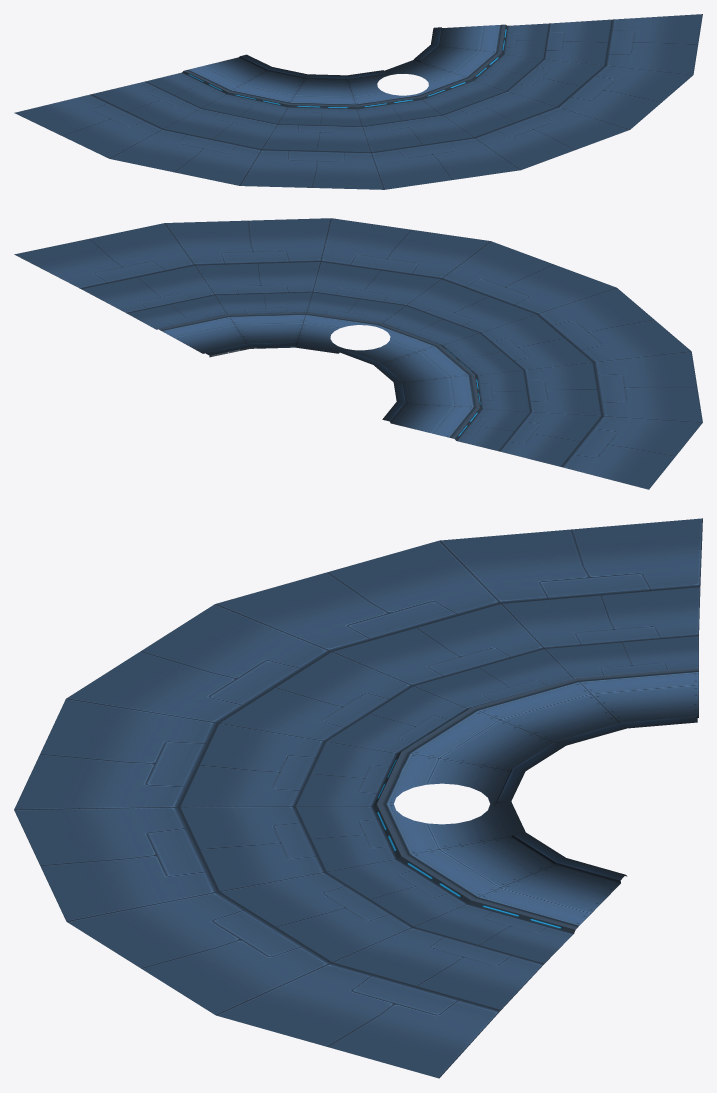
The model's file is ts_zjmdm001.FBX.
The picture shows the model from 3 angles, top to bottom: view 1: azimuth 30°, elevation 25°; view 2: azimuth 150°, elevation 25°; view 3: azimuth 270°, elevation 25°; orthographic projection. The views are drawn at different scales.
Visible parts, largest first — view 1: ts_zjmdm001; view 2: ts_zjmdm001; view 3: ts_zjmdm001.
Boxes of the visible parts, <box> form: ts_zjmdm001: <box>14,14,702,189</box>; ts_zjmdm001: <box>14,218,702,489</box>; ts_zjmdm001: <box>14,518,702,1078</box>.
Size of the model in its own units: 61.5 by 0.2811 by 31.97.
